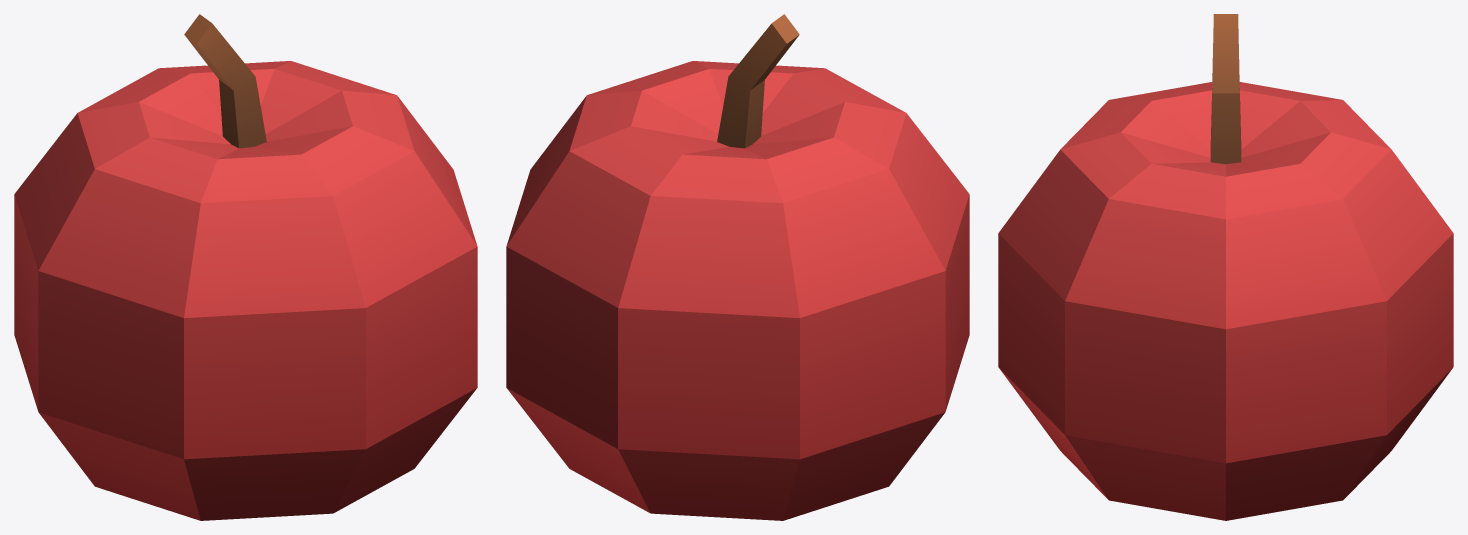
The model's file is Red Apple.fbx.
The picture shows the model from 3 angles, left to right: view 1: azimuth 30°, elevation 25°; view 2: azimuth 150°, elevation 25°; view 3: azimuth 270°, elevation 25°; orthographic projection. The views are drawn at different scales.
Visible parts, largest first — view 1: Red Apple; view 2: Red Apple; view 3: Red Apple.
Boxes of the visible parts, left/top/right/bottom form: Red Apple: left=14, top=14, right=477, bottom=520; Red Apple: left=506, top=14, right=969, bottom=520; Red Apple: left=998, top=14, right=1453, bottom=520.
Bounding box in the file's own units: 17.13 × 18.12 × 17.13.
